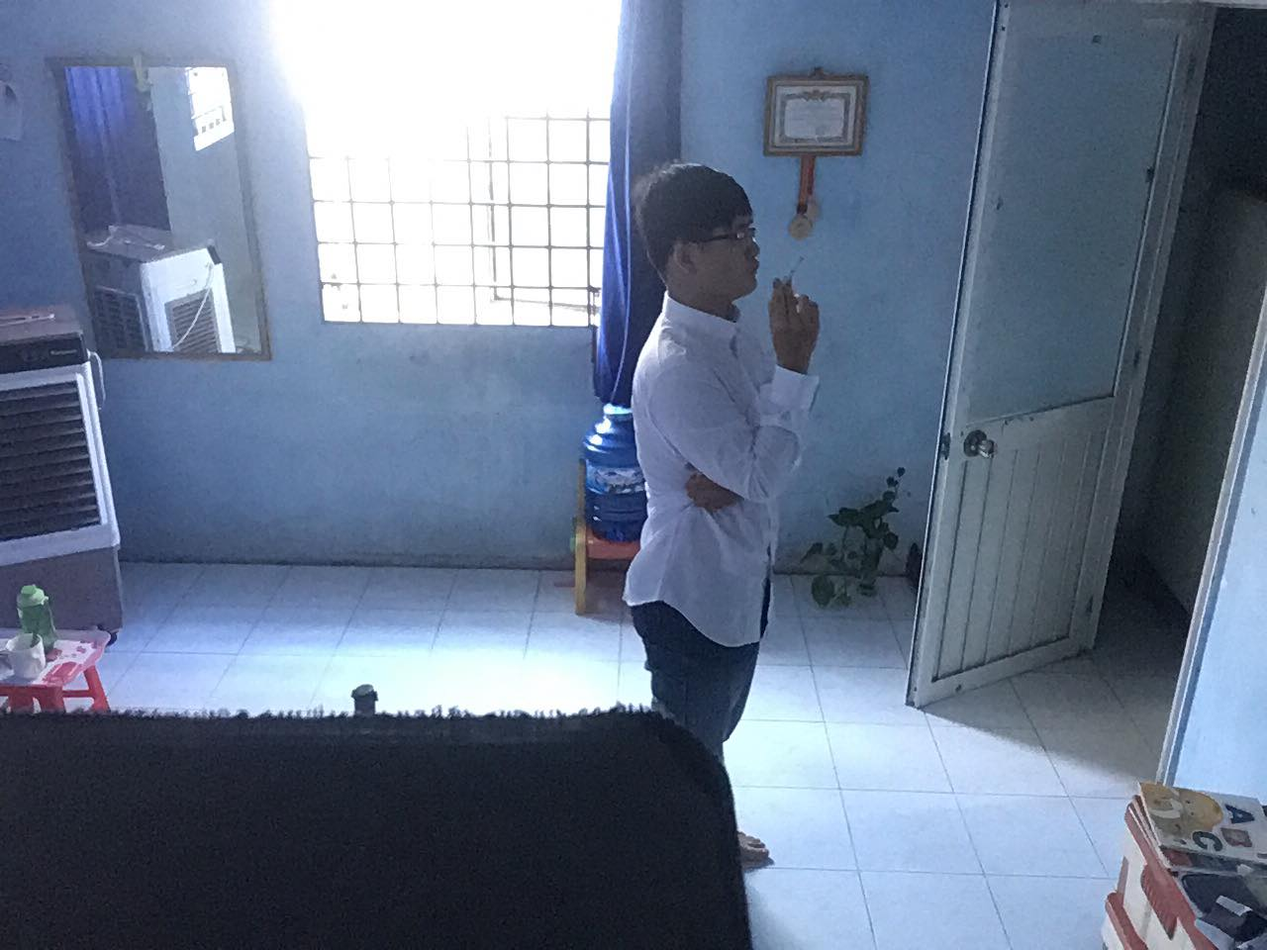cigarette: (783, 251, 816, 286)
person: (607, 152, 858, 879)
